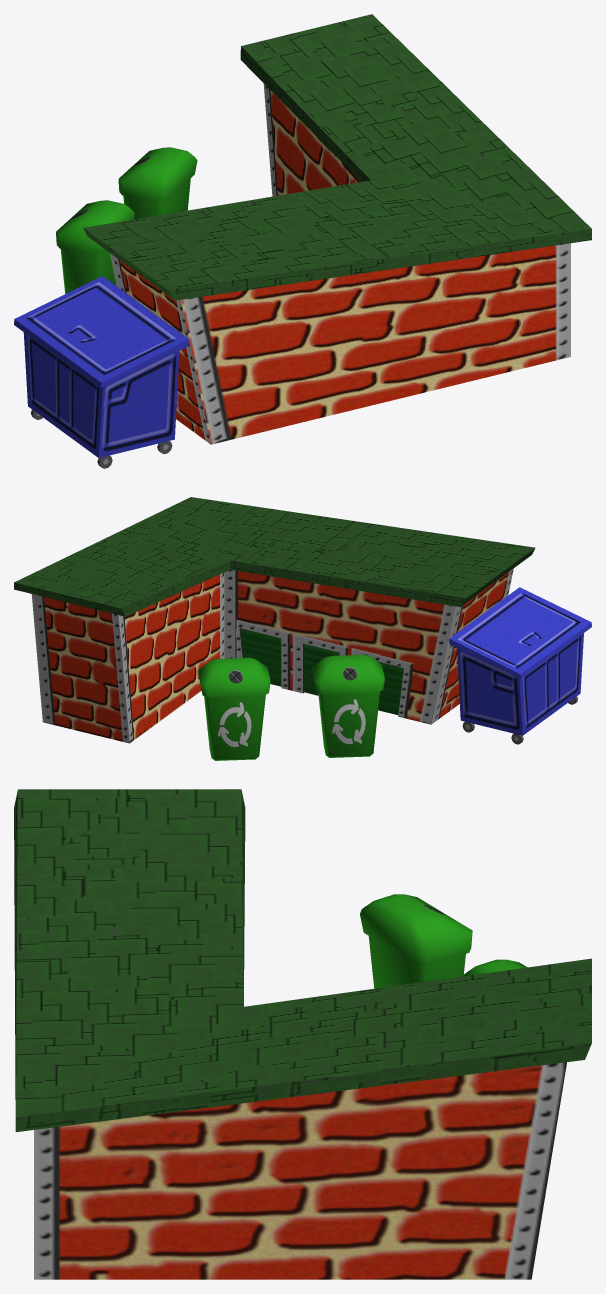
The model's file is WasteManagementFacility.FBX.
The picture shows the model from 3 angles, top to bottom: view 1: azimuth 30°, elevation 25°; view 2: azimuth 150°, elevation 25°; view 3: azimuth 270°, elevation 25°; orthographic projection. The views are drawn at different scales.
Visible parts, largest first — view 1: Box014; view 2: Box014; view 3: Box014.
Part boxes in pixels (<box>): Box014: <box>14,14,591,468</box>; Box014: <box>14,497,591,760</box>; Box014: <box>14,789,591,1279</box>.
Size of the model in its own units: 79.84 by 28.66 by 61.42.
